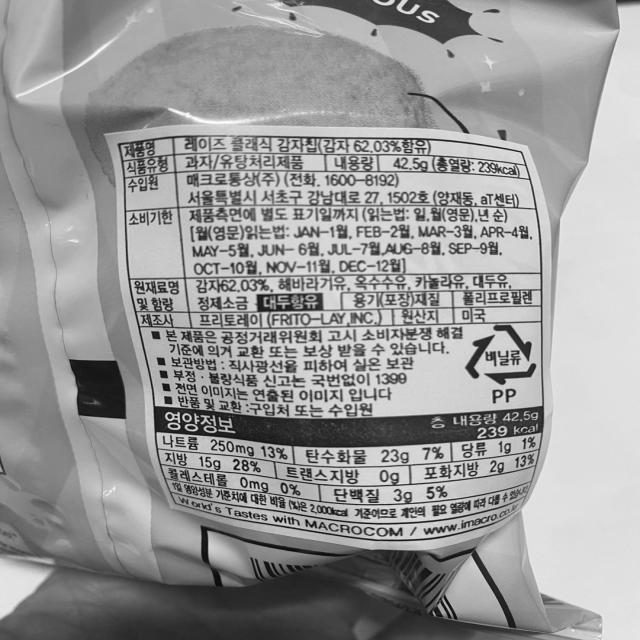Nutrition Label: (142, 393, 560, 549)
